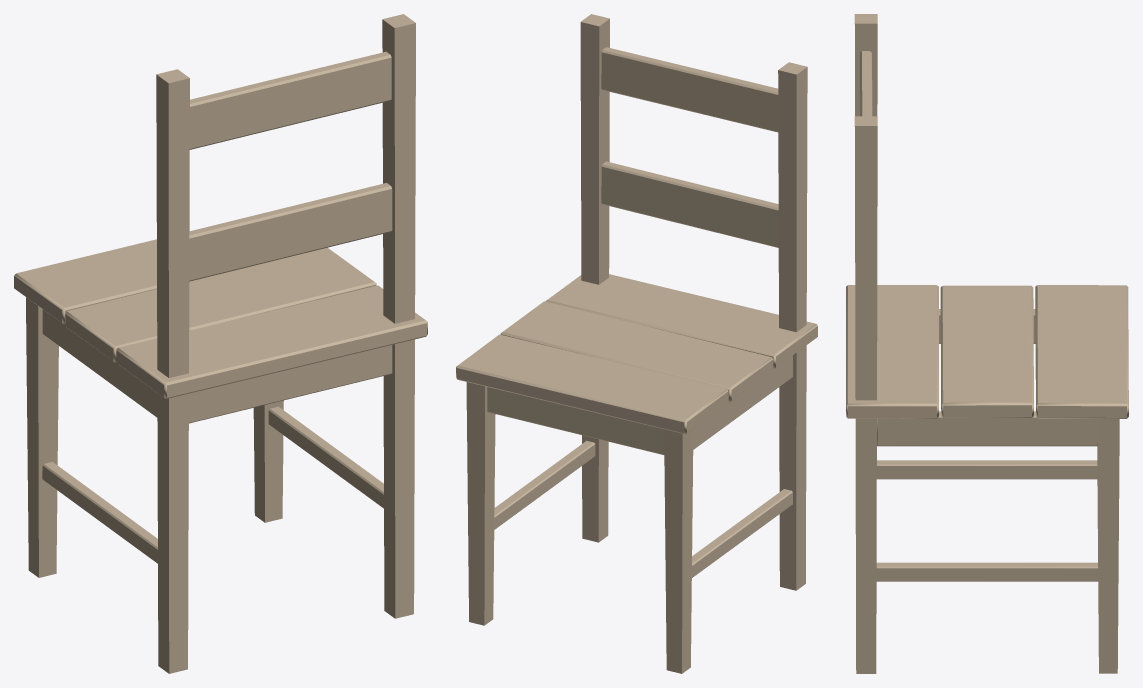
Rendered from chair.glb.
The picture shows the model from 3 angles, left to right: view 1: azimuth 30°, elevation 25°; view 2: azimuth 150°, elevation 25°; view 3: azimuth 270°, elevation 25°; orthographic projection. The views are drawn at different scales.
Visible parts, largest first — view 1: static; view 2: static; view 3: static.
Boxes of the visible parts, box(x1,y1,x2,y2) form: static: box(14, 14, 427, 673); static: box(456, 14, 817, 673); static: box(846, 14, 1128, 673).
Size of the model in its own units: 0.4204 by 0.9 by 0.4205.
